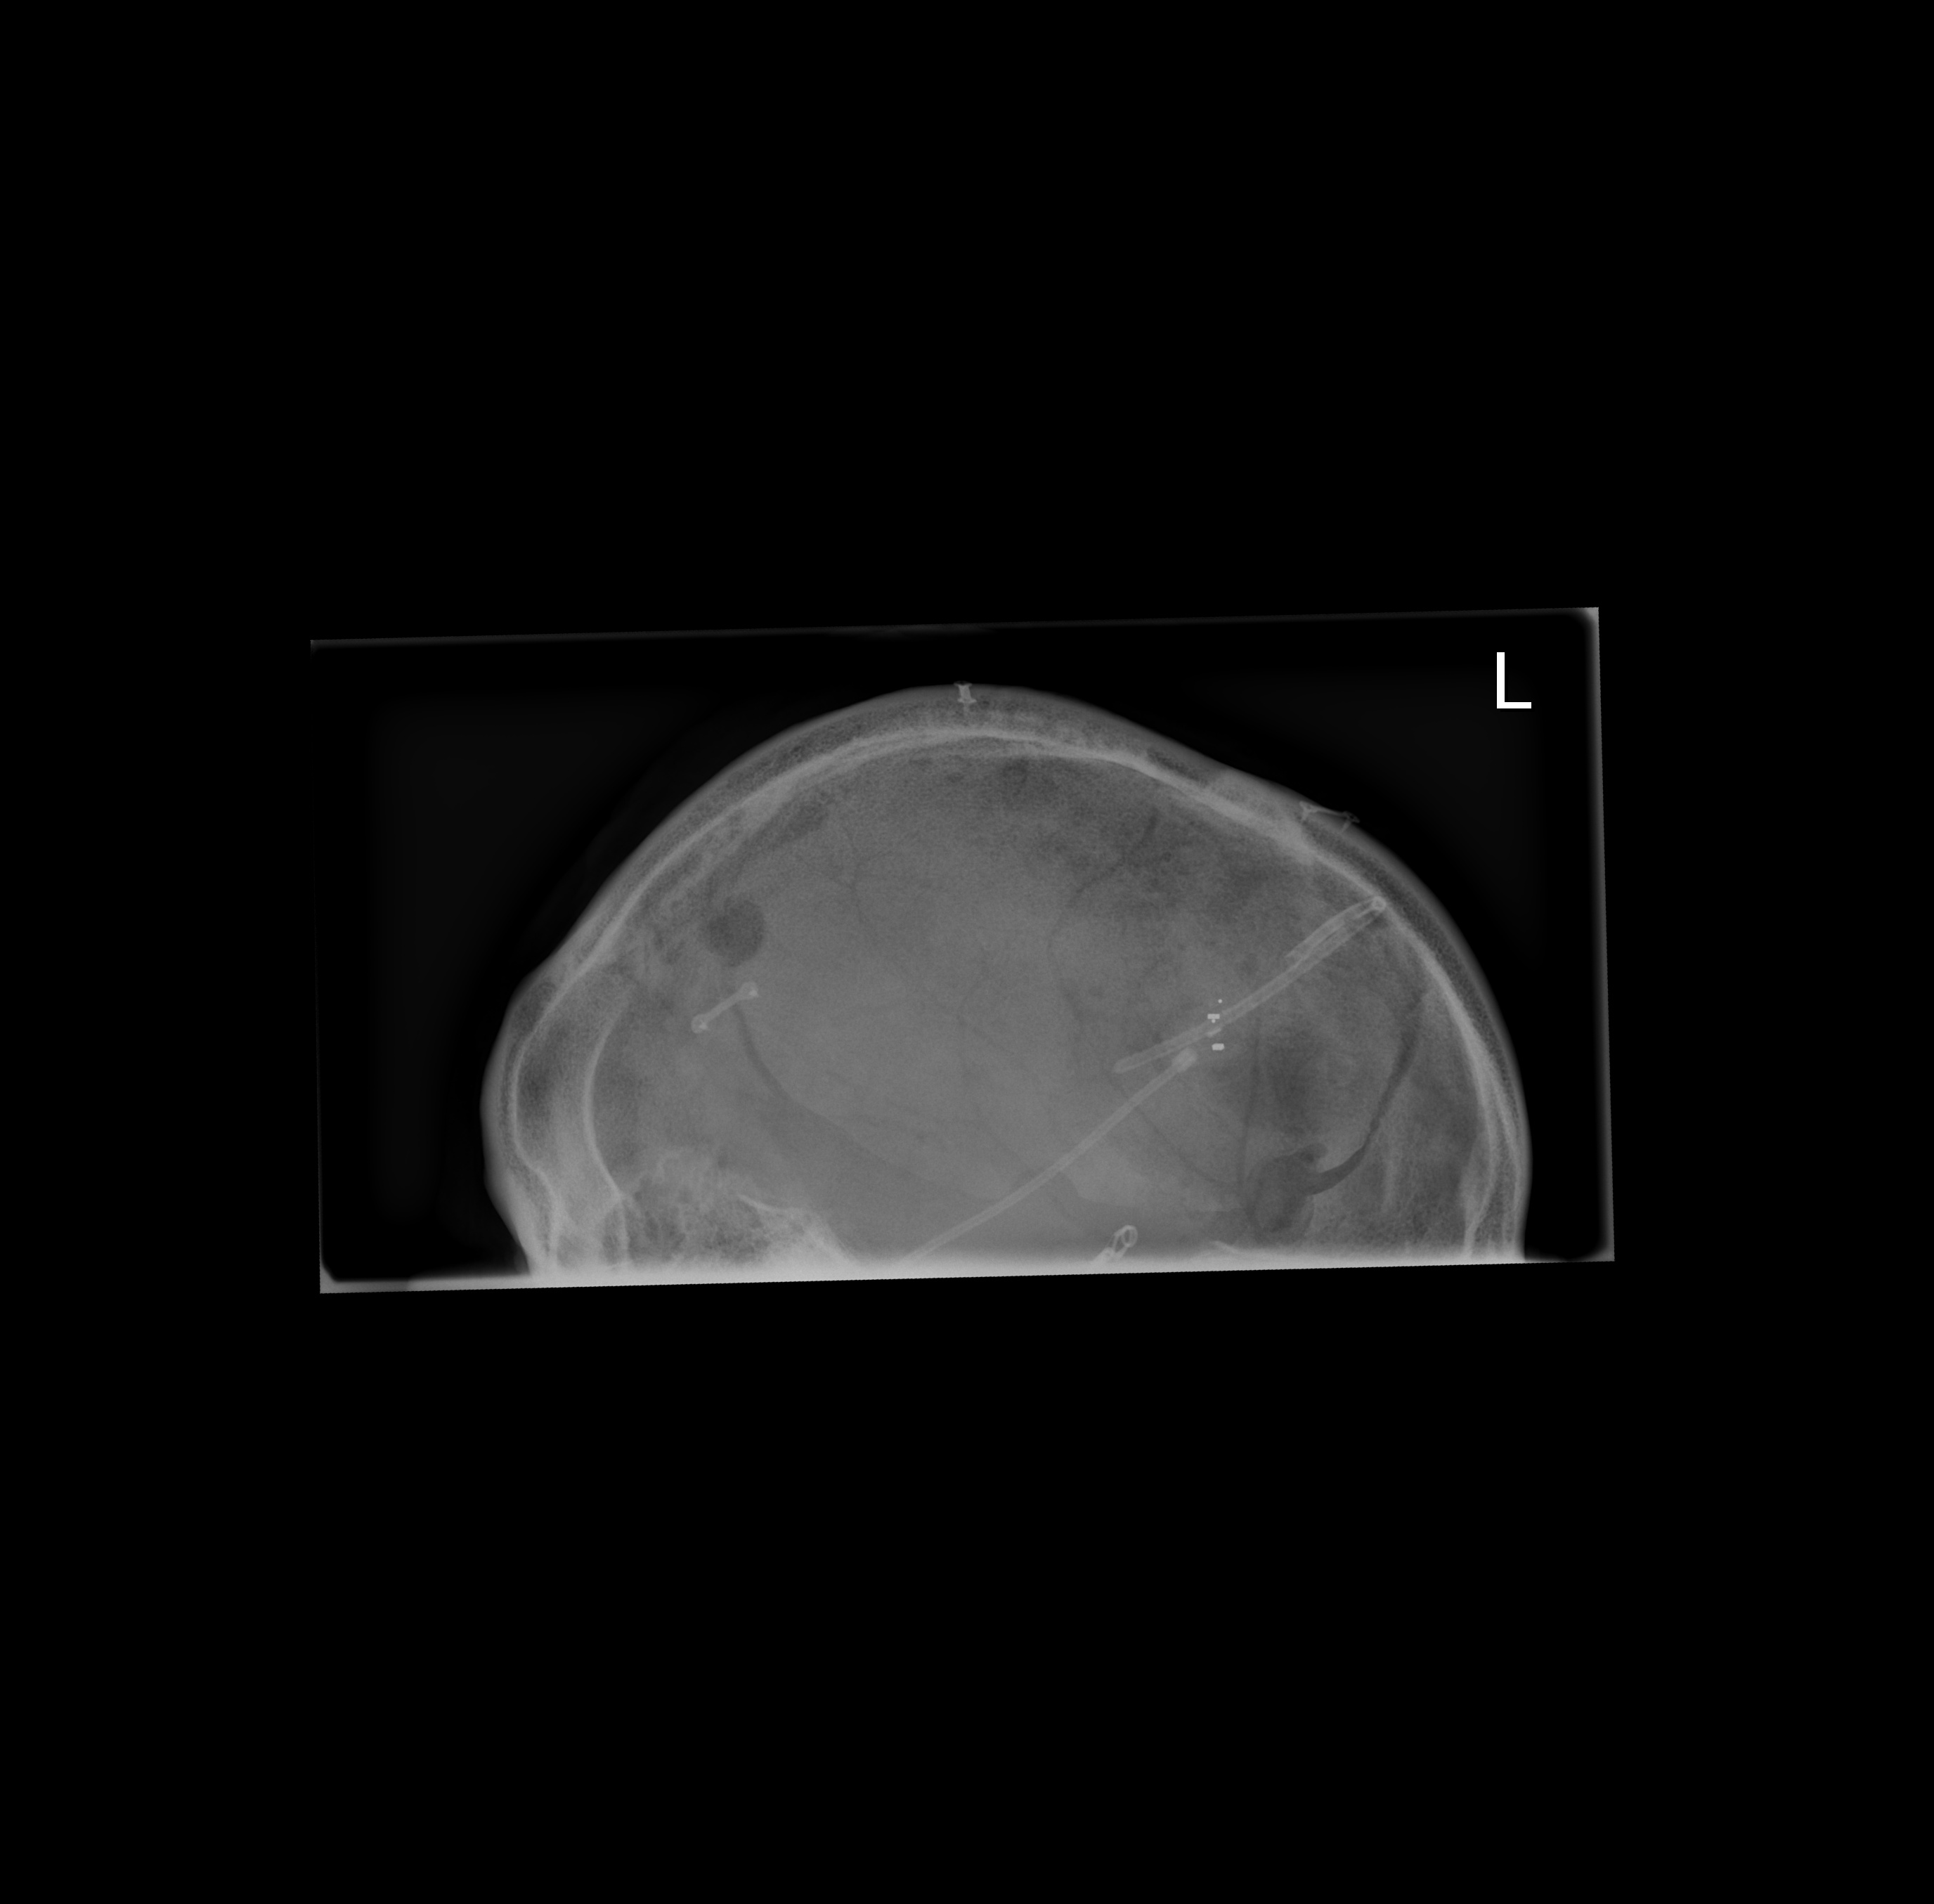Codman Certas: (1175, 994, 1252, 1074)
